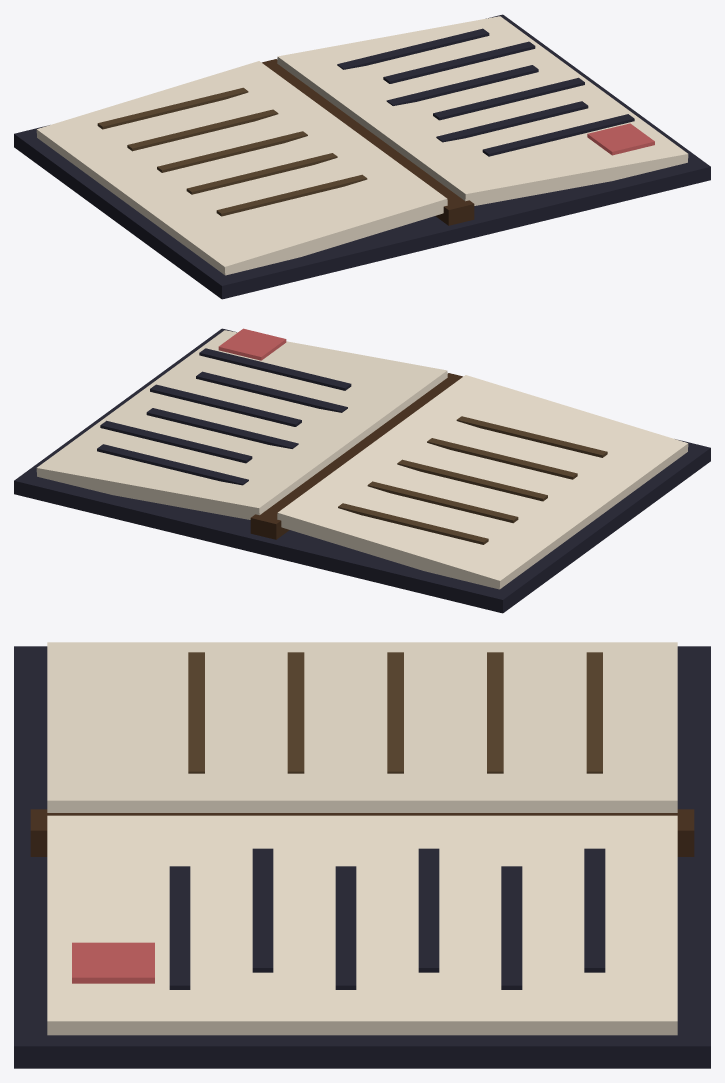
File: prop_ledger_open.glb
3 renders of one model, top to bottom at view 1: azimuth 30°, elevation 25°; view 2: azimuth 150°, elevation 25°; view 3: azimuth 270°, elevation 25°, orthographic. The views are drawn at different scales.
Visible parts, largest first — view 1: prop_ledger_open; view 2: prop_ledger_open; view 3: prop_ledger_open.
Boxes of the visible parts, x1,y1,x2,y2 form: prop_ledger_open: (14, 14, 710, 299); prop_ledger_open: (14, 328, 710, 613); prop_ledger_open: (14, 642, 710, 1068).
Size of the model in its own units: 1.14 by 0.0806 by 0.84.
